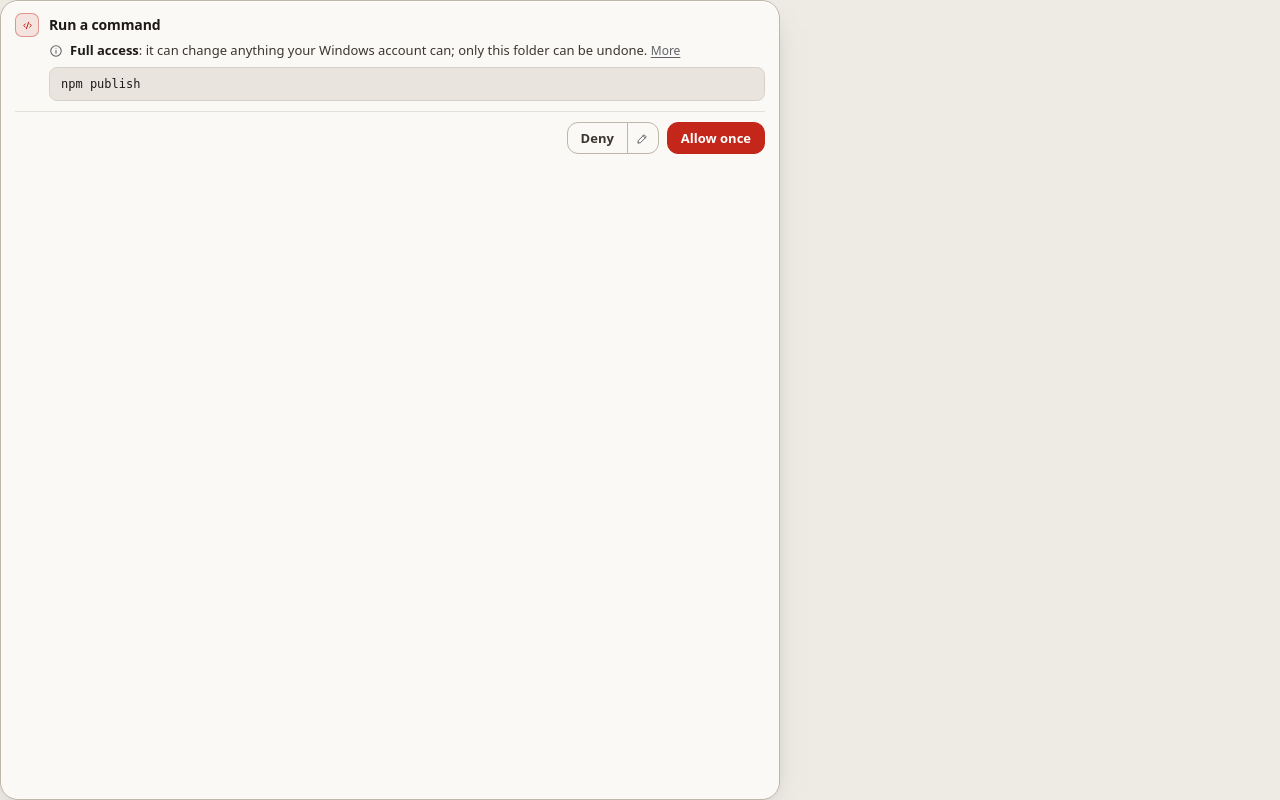
Test: the card that asks › opens the whole explanation on a press, which the keyboard reaches as any button, and folds it away again
The width and height of the screenshot is (1280, 800).
Click the button "More".
click(666, 51)  # box [651,42,680,59]
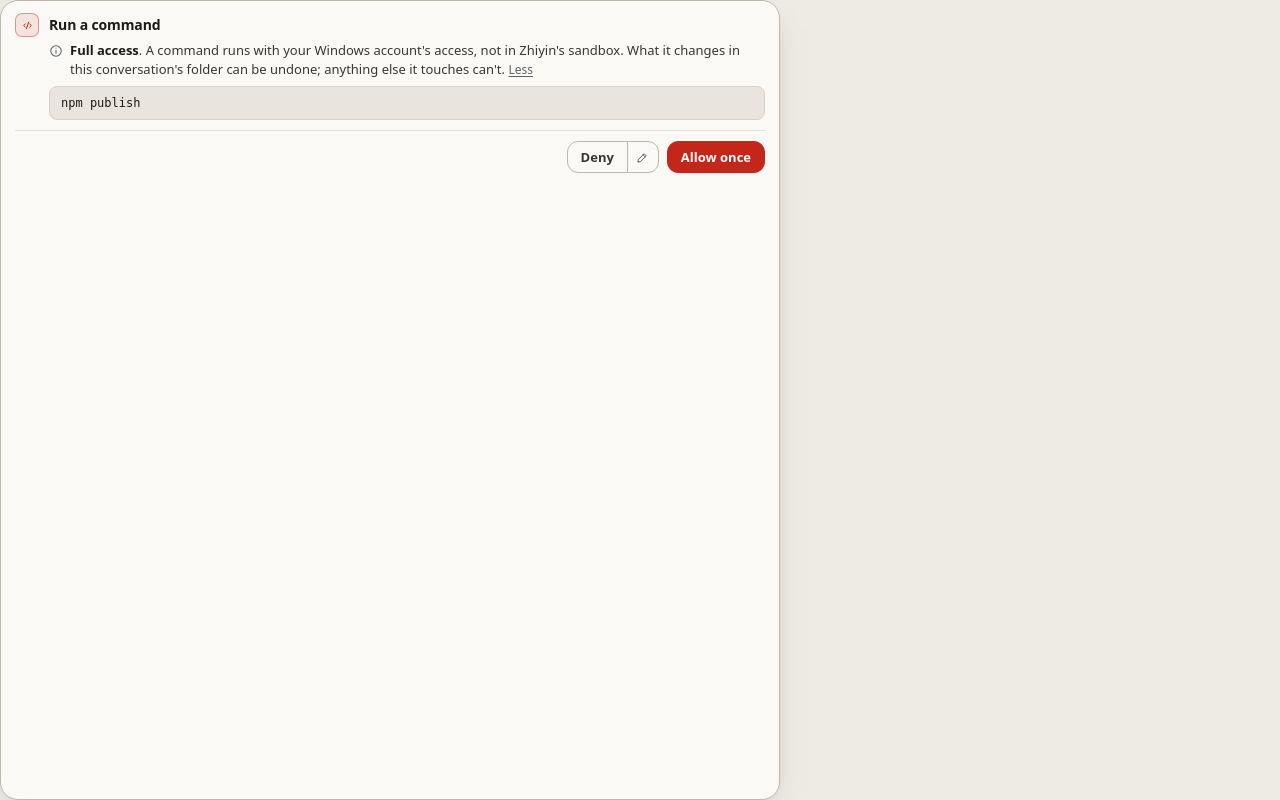
Expected: the element named "Why you’re asked" shows "anything else it touches can't", [70,41,740,78]
Expected: the button "Less" is expanded
Click the button "Less".
click(521, 70)  # box [508,61,533,78]
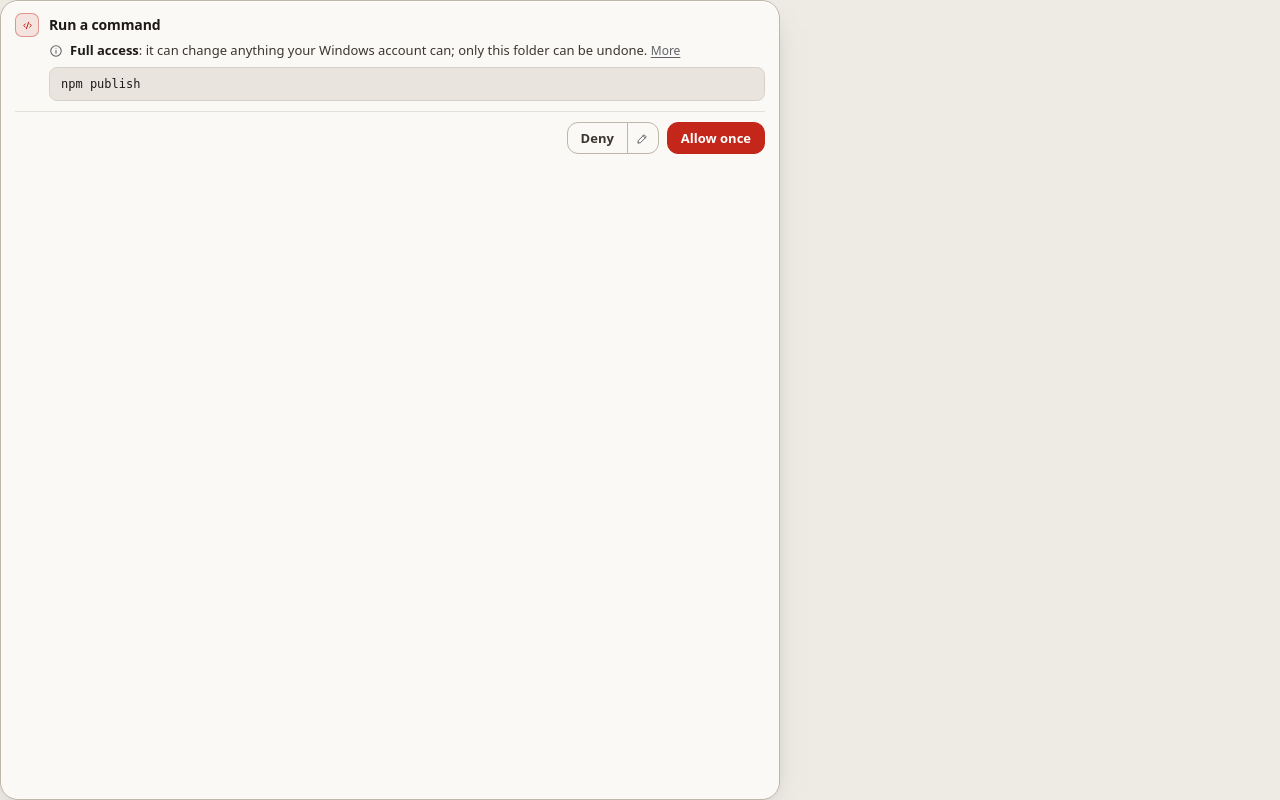
Expected: the field labelled "Why you’re asked" no longer shows "anything else it touches can't"
